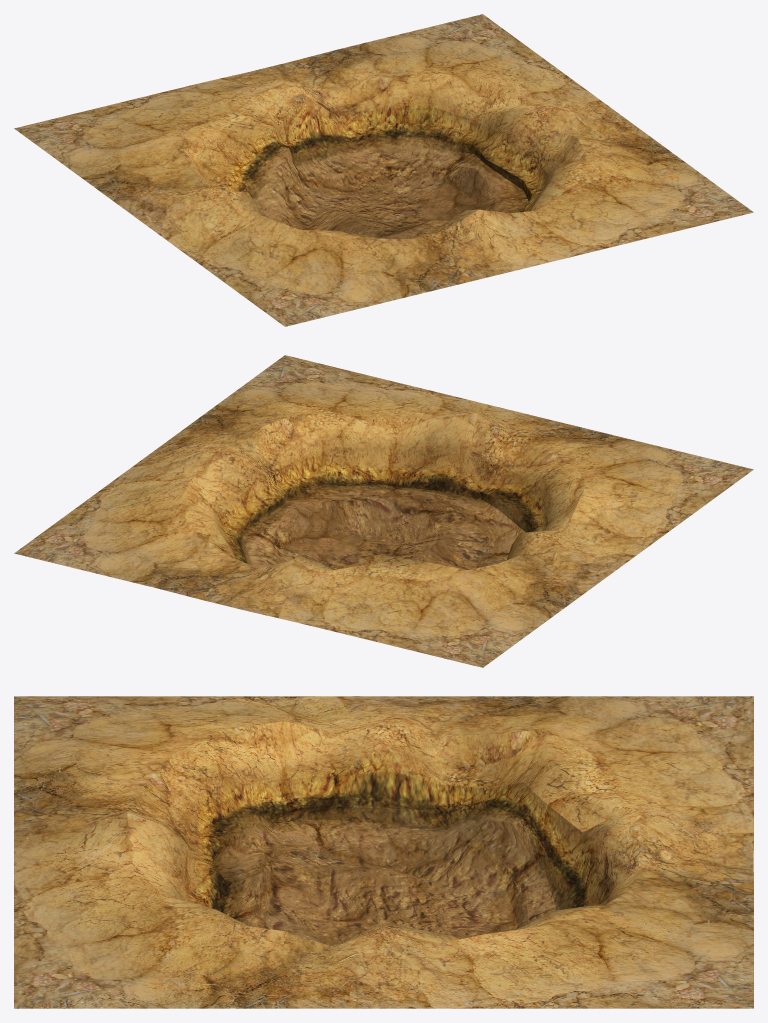
The model's file is Crater_13.fbx.
3 renders of one model, top to bottom at view 1: azimuth 30°, elevation 25°; view 2: azimuth 150°, elevation 25°; view 3: azimuth 270°, elevation 25°, orthographic. The views are drawn at different scales.
Parts seen in each view (by area): view 1: Crater_13; view 2: Crater_13; view 3: Crater_13.
Boxes of the visible parts, x1,y1,x2,y2 form: Crater_13: (14,14,753,326); Crater_13: (14,355,753,667); Crater_13: (14,696,753,1008).
Size of the model in its own units: 599 by 102 by 600.
